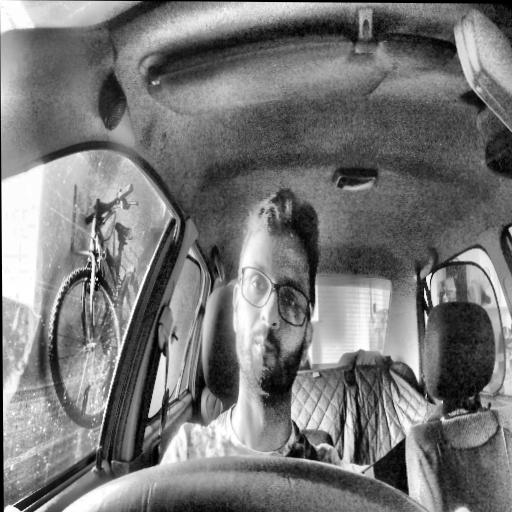awake: (231, 187, 320, 409)
